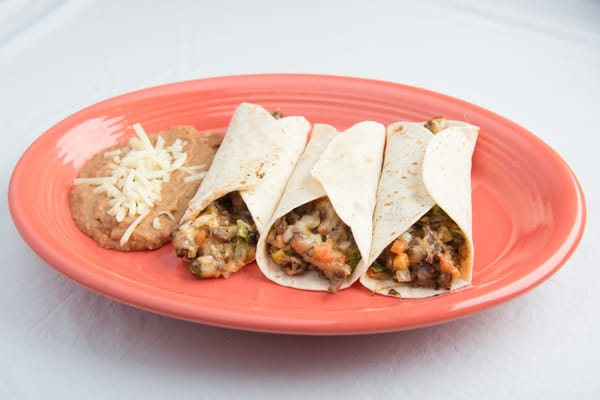soup: (171, 101, 312, 279), (364, 119, 478, 297)
